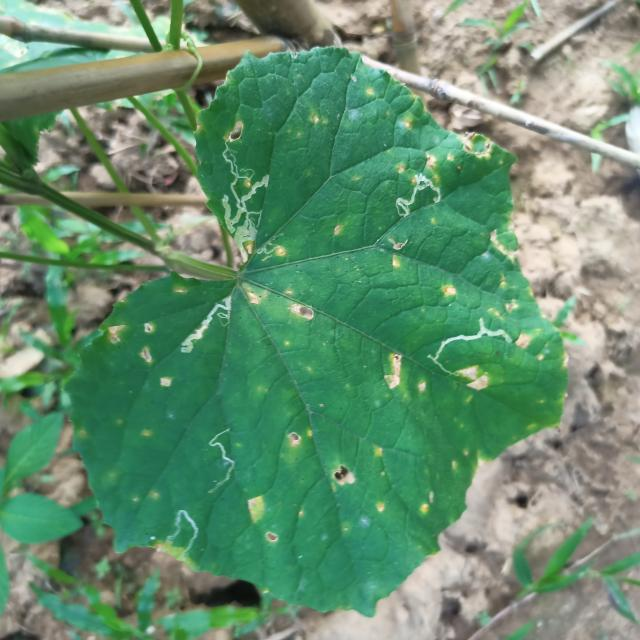disease_cucumber: (331, 440, 394, 538), (105, 319, 174, 394), (478, 229, 525, 321), (244, 278, 320, 325), (422, 130, 492, 172), (246, 492, 286, 552), (518, 325, 565, 367), (380, 350, 408, 396), (456, 362, 490, 396), (384, 236, 411, 272), (286, 426, 314, 448), (417, 489, 436, 516), (225, 122, 249, 142), (306, 113, 334, 128), (440, 280, 458, 302), (364, 86, 379, 100), (274, 246, 290, 259), (332, 223, 345, 238), (150, 488, 162, 500), (142, 428, 153, 438)
